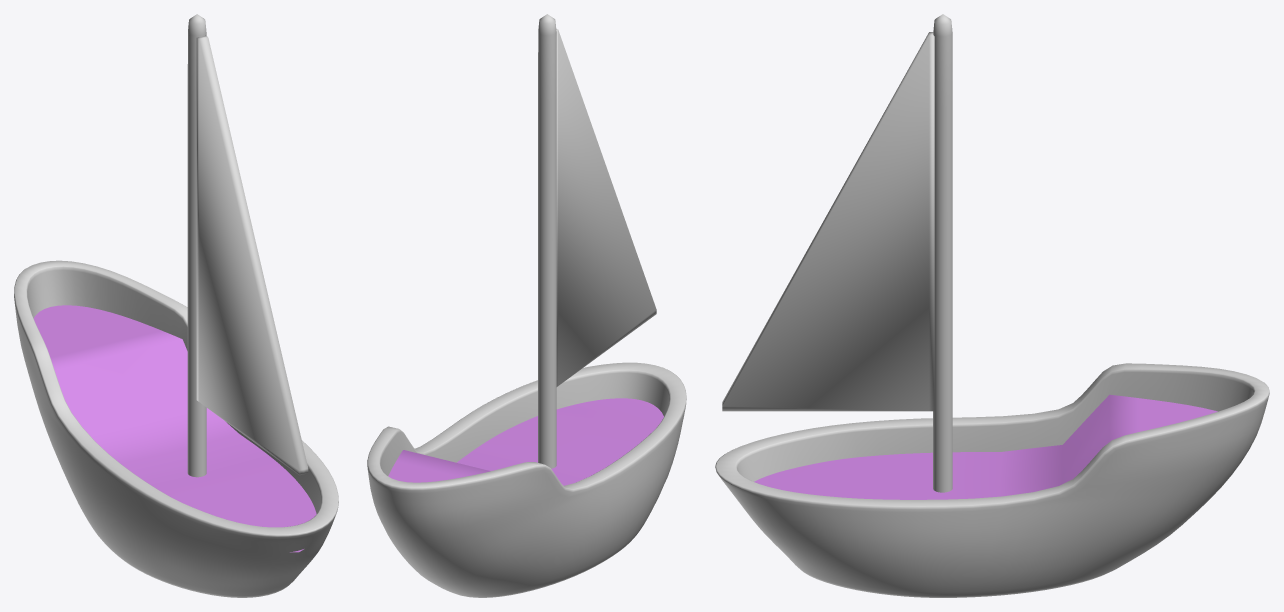
The model's file is Boat.fbx.
3 renders of one model, left to right at view 1: azimuth 30°, elevation 25°; view 2: azimuth 150°, elevation 25°; view 3: azimuth 270°, elevation 25°, orthographic. The views are drawn at different scales.
Visible parts, largest first — view 1: Boat, Sail; view 2: Boat, Sail; view 3: Boat, Sail.
Boxes of the visible parts, <box> form: Boat: <box>14,14,338,597</box>; Sail: <box>196,35,308,475</box>; Boat: <box>367,14,686,597</box>; Sail: <box>556,29,656,386</box>; Boat: <box>715,14,1269,597</box>; Sail: <box>722,32,934,411</box>.
Size of the model in its own units: 3.91 by 11.11 by 10.18.
